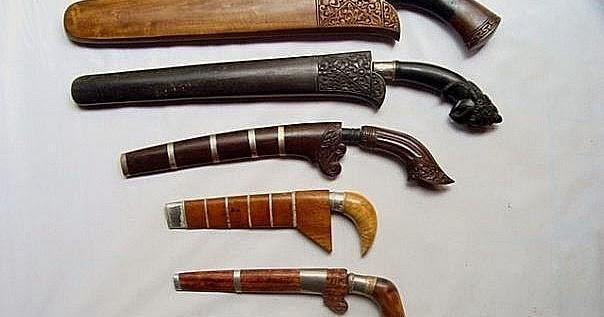espada: (72, 51, 502, 127), (63, 0, 500, 52), (121, 121, 453, 184), (165, 190, 377, 255), (175, 268, 404, 316)
